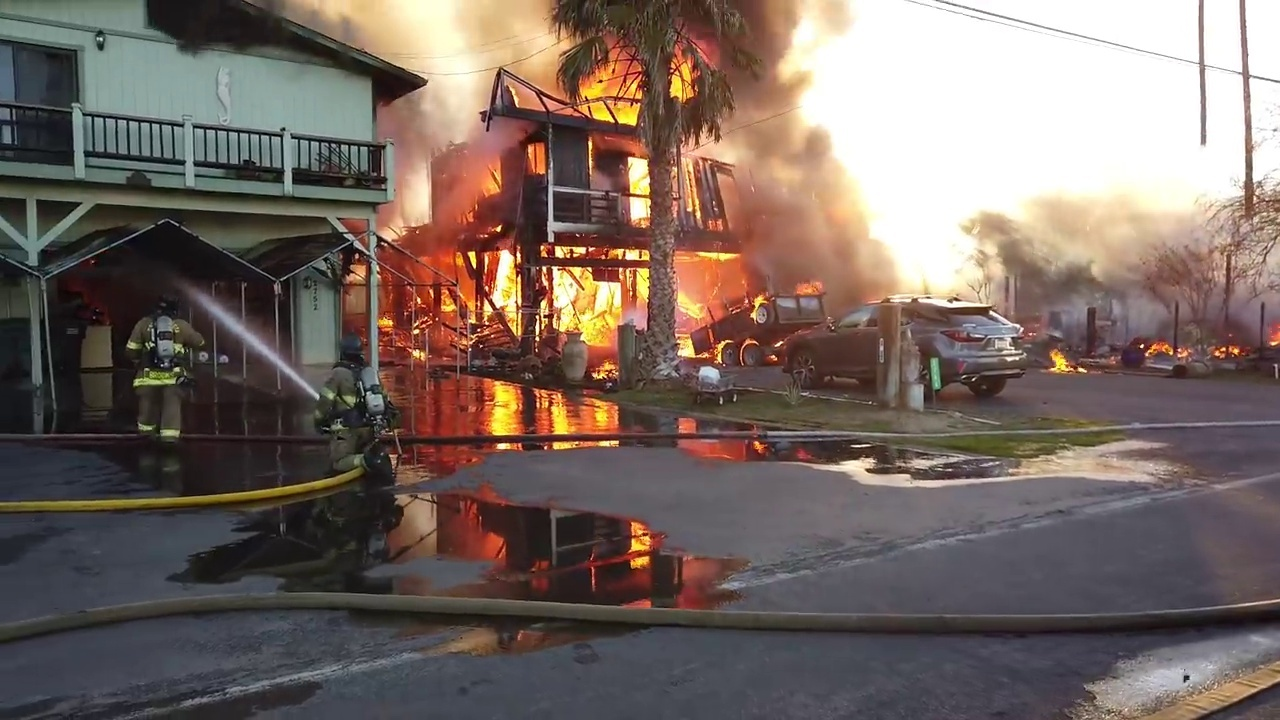fire: (567, 34, 713, 215), (406, 252, 618, 349), (674, 255, 710, 331), (709, 334, 764, 374), (1138, 338, 1244, 356), (627, 152, 654, 218), (622, 249, 652, 308), (590, 354, 635, 392), (739, 295, 779, 328), (1041, 346, 1090, 372), (479, 158, 506, 204), (676, 333, 710, 359), (616, 306, 649, 328), (483, 217, 504, 237), (1266, 322, 1280, 344)
smoke: (143, 1, 547, 182), (710, 1, 893, 292), (991, 140, 1217, 336), (890, 217, 1008, 307), (411, 179, 477, 251)
